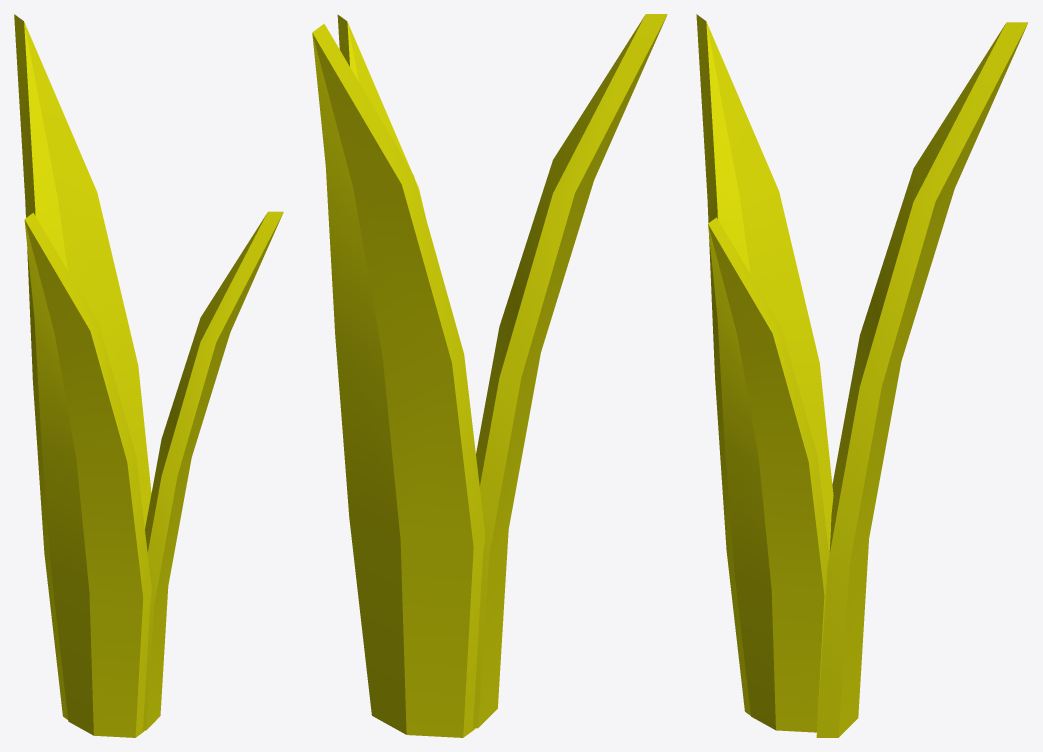
File: kaykit-grass-2-b-color-1.glb
The picture shows the model from 3 angles, left to right: view 1: azimuth 30°, elevation 25°; view 2: azimuth 150°, elevation 25°; view 3: azimuth 270°, elevation 25°; orthographic projection. The views are drawn at different scales.
Parts seen in each view (by area): view 1: Grass_2_B_Color1; view 2: Grass_2_B_Color1; view 3: Grass_2_B_Color1.
Boxes of the visible parts, x1,y1,x2,y2 form: Grass_2_B_Color1: [14, 14, 283, 737]; Grass_2_B_Color1: [312, 14, 667, 737]; Grass_2_B_Color1: [696, 14, 1028, 737].
Bounding box in the file's own units: 0.4035 × 0.9188 × 0.3974.
